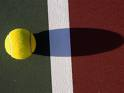tennis ball: (3, 28, 40, 61)
